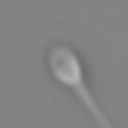normal: (74, 81, 114, 128)
